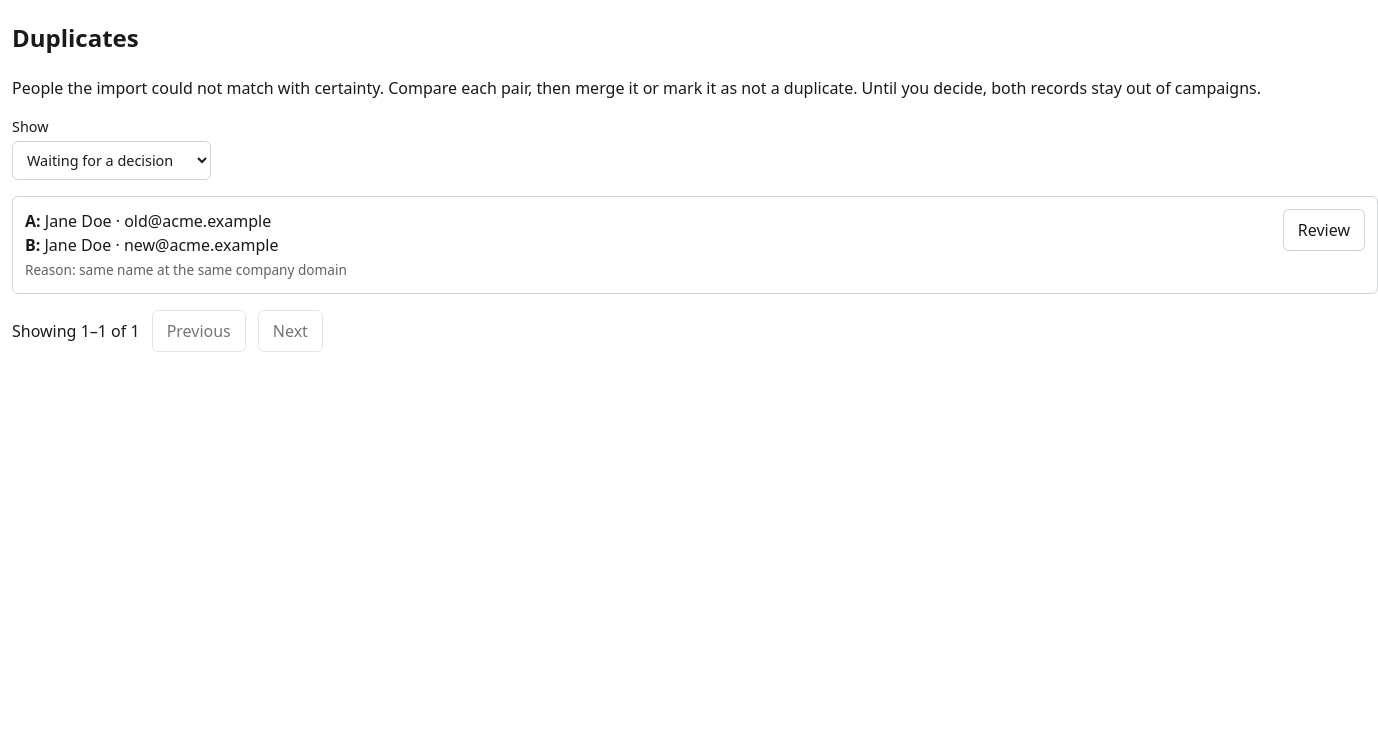
compare and merge › starts every field with the value the server pre-selected
The image size is (1378, 738).
Check: the text "Jane Doe · old@acme.example" is shown, box [45,210,271,232]
Click the button with aria-label "Review Jane Doe" at (1324, 230), box [1283,209,1365,251]
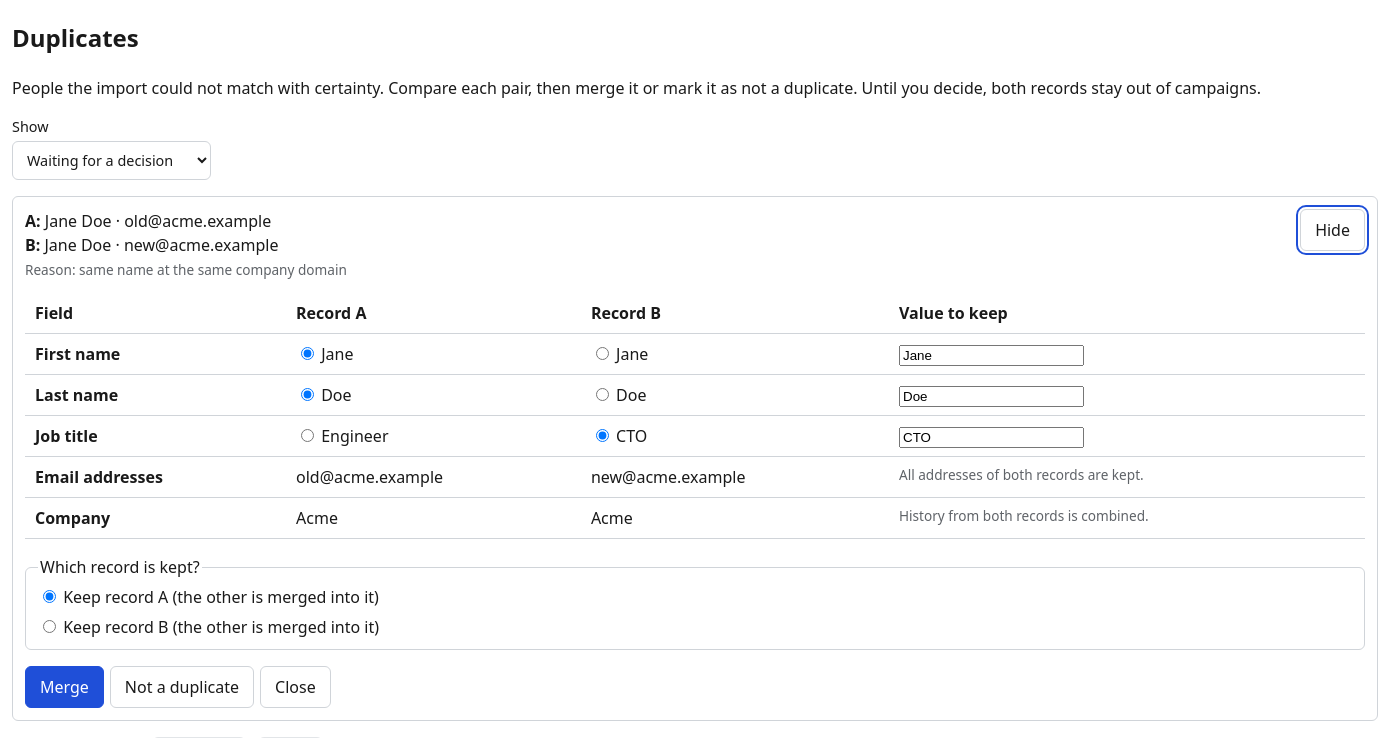
Check: the field named "Value to keep for Job title" holds "CTO", box [899,427,1084,448]
Check: the field named "Value to keep for First name" holds "Jane", box [899,345,1084,366]
Check: the text "All addresses of both records are kept." is shown, box [889,457,1365,498]
